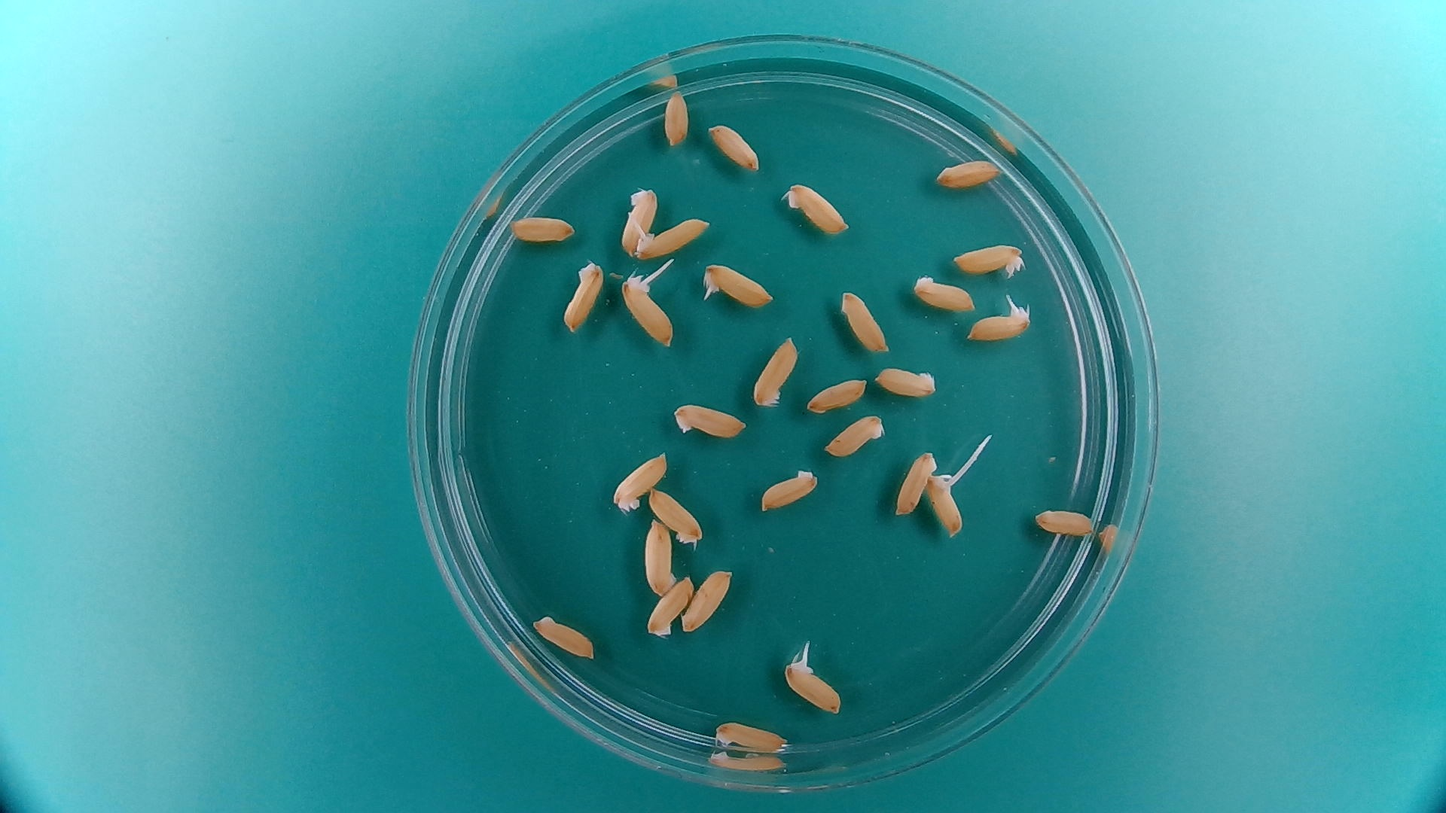no: (780, 178, 853, 238), (749, 332, 802, 412), (679, 565, 736, 635), (645, 483, 706, 547), (611, 448, 670, 514), (560, 258, 609, 336), (837, 286, 892, 355), (529, 610, 599, 662), (890, 445, 938, 520), (643, 573, 695, 641), (670, 398, 750, 442), (755, 465, 822, 515), (947, 238, 1028, 279), (704, 120, 763, 174), (820, 412, 888, 458), (712, 717, 791, 755), (640, 515, 676, 598), (909, 271, 979, 313), (932, 154, 1005, 193), (802, 373, 869, 415), (621, 181, 661, 251), (871, 361, 940, 400), (507, 210, 579, 246), (1030, 505, 1097, 540), (660, 87, 693, 148)
yes: (698, 258, 778, 310), (620, 279, 676, 349), (781, 658, 844, 716), (632, 215, 709, 260), (965, 303, 1031, 344), (925, 475, 964, 540)
